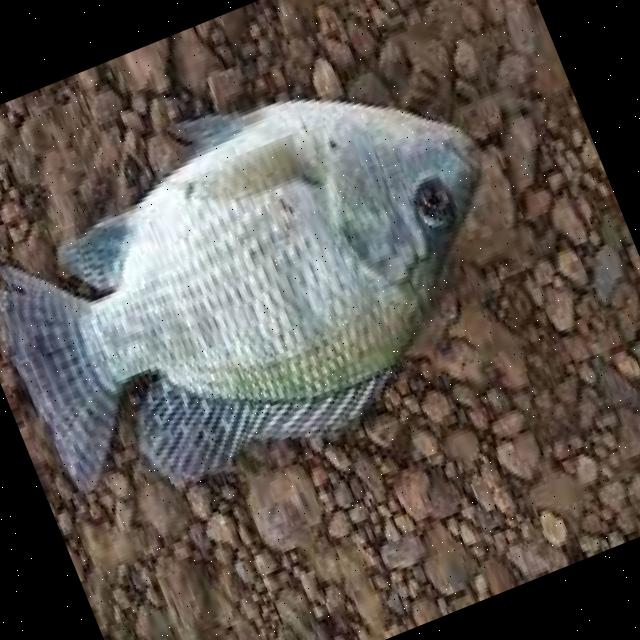ikan: (0, 24, 563, 542)
